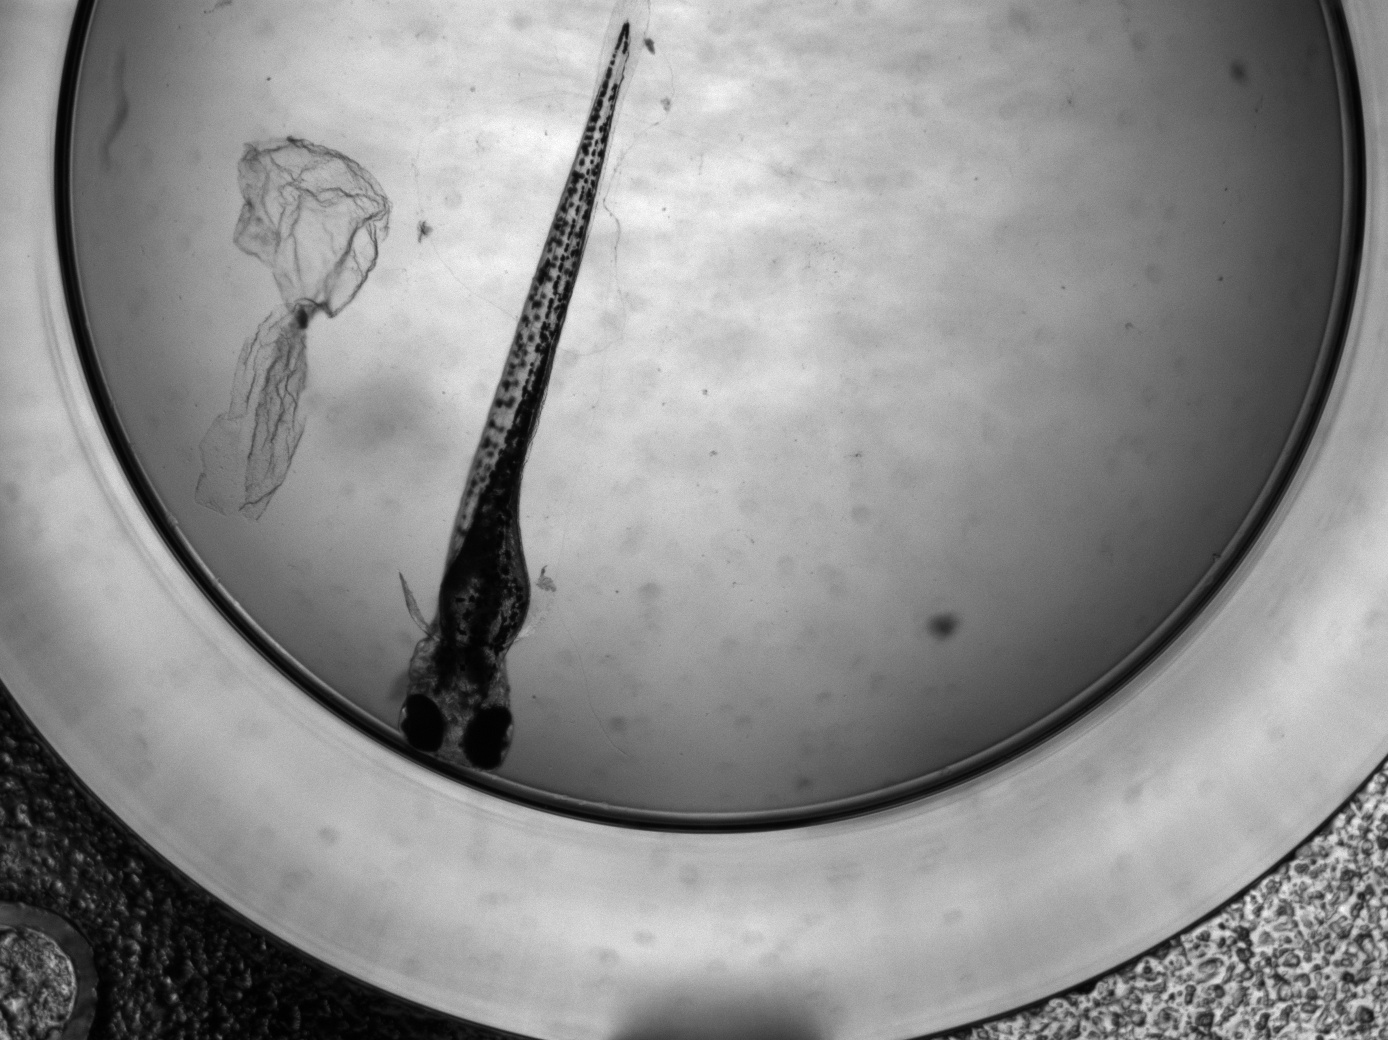embryo: (398, 19, 631, 773)
eye: (460, 706, 514, 771), (398, 694, 446, 753)
yolksac: (439, 549, 532, 655)
